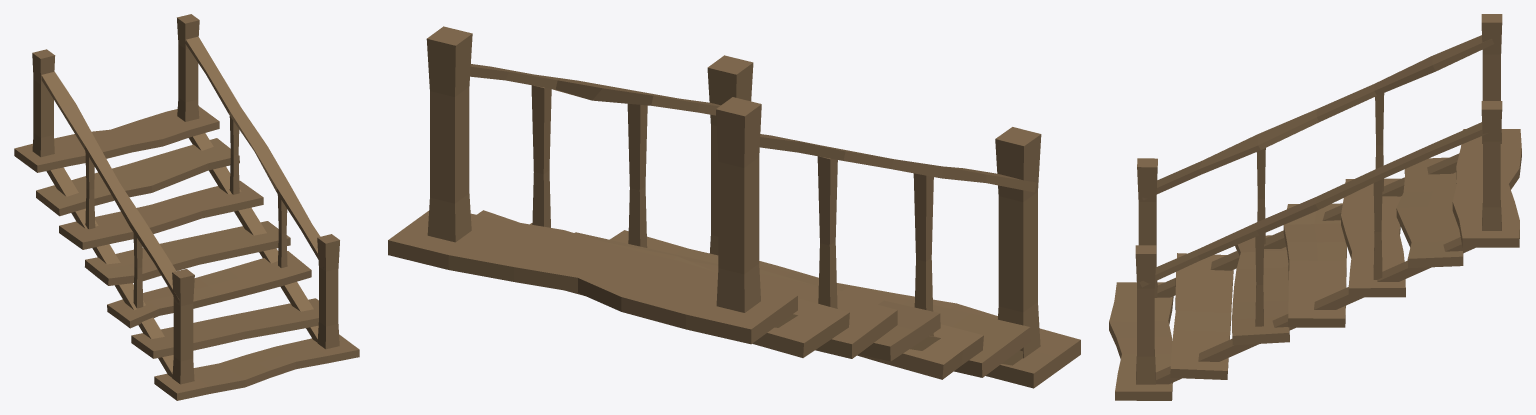
Rendered from Stairs Straight_Untextured.fbx.
The picture shows the model from 3 angles, left to right: view 1: azimuth 30°, elevation 25°; view 2: azimuth 150°, elevation 25°; view 3: azimuth 270°, elevation 25°; orthographic projection. The views are drawn at different scales.
Visible parts, largest first — view 1: Wooden Stairs; view 2: Wooden Stairs; view 3: Wooden Stairs.
Boxes of the visible parts, x1,y1,x2,y2 form: Wooden Stairs: (14, 14, 359, 400); Wooden Stairs: (388, 26, 1080, 388); Wooden Stairs: (1109, 14, 1521, 400).
Bounding box in the file's own units: 257 × 307 × 402.
